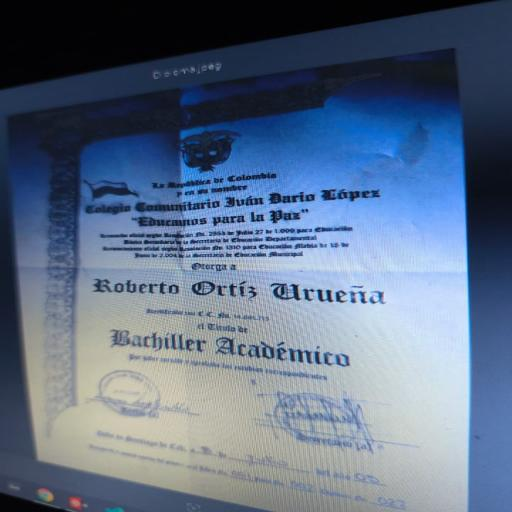bachillerato: (102, 321, 382, 379)
diploma: (7, 51, 472, 512)
escudo: (166, 125, 247, 177)
firma: (256, 384, 401, 463), (76, 365, 201, 428)
institucion: (64, 180, 389, 233)
nombre: (88, 272, 396, 313)
